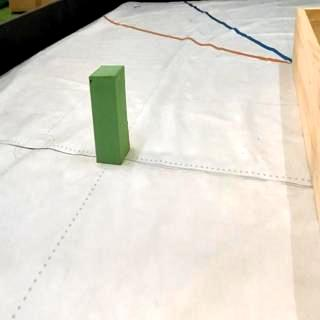greenbox: (88, 66, 128, 163)
